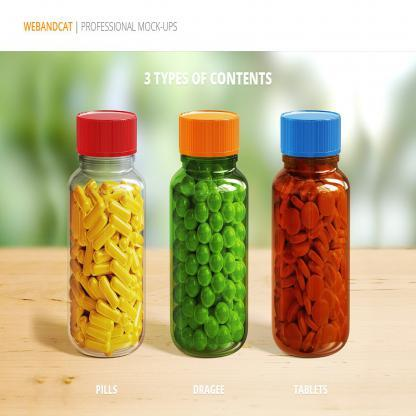jar: (272, 110, 350, 357), (171, 110, 248, 357), (68, 110, 144, 356)
